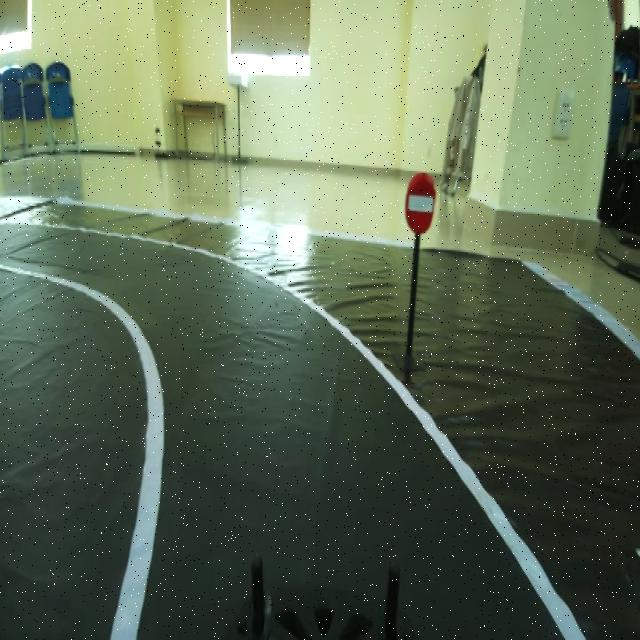no_entry: (394, 162, 440, 240)
